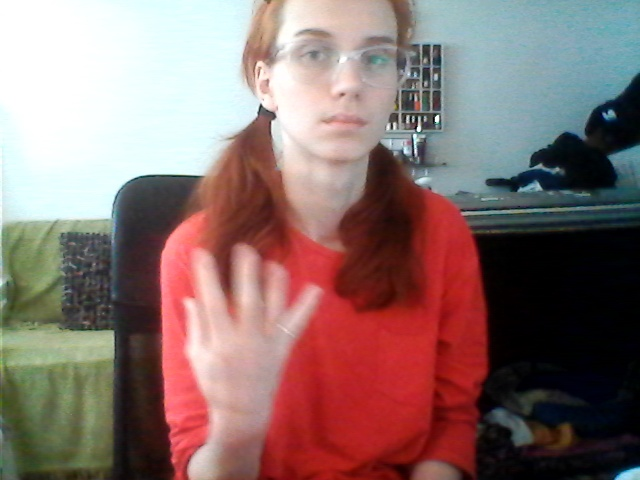kedy: (176, 244, 331, 420)
